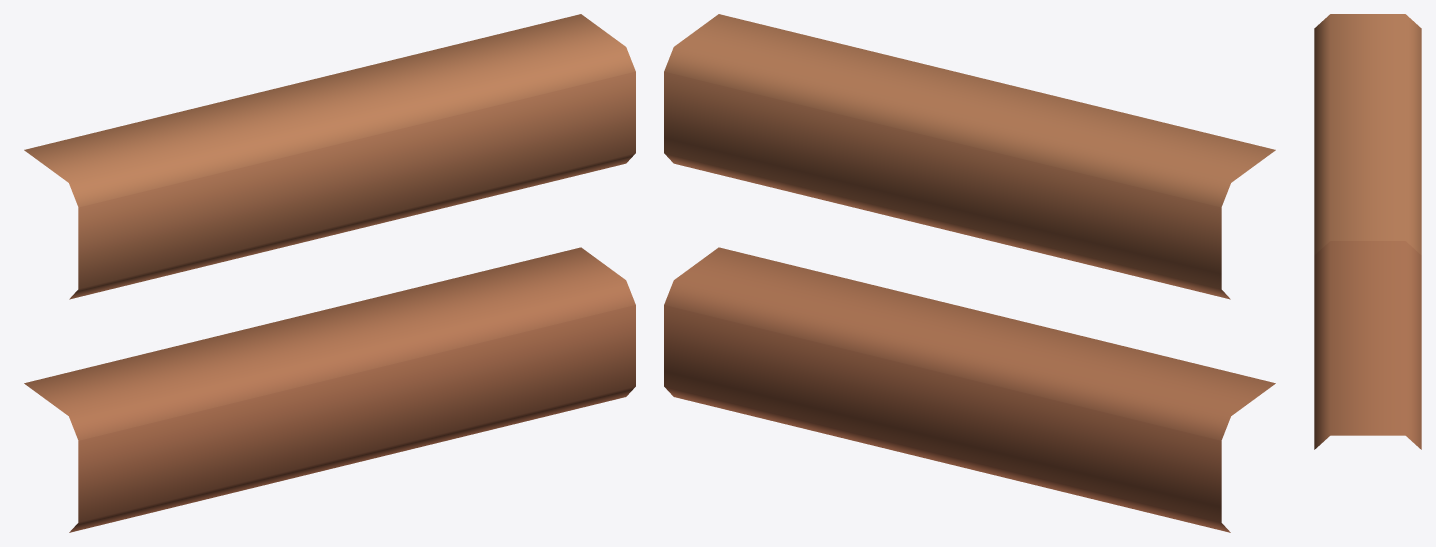
Rendered from Fence Rails.glb.
3 renders of one model, left to right at view 1: azimuth 30°, elevation 25°; view 2: azimuth 150°, elevation 25°; view 3: azimuth 270°, elevation 25°, orthographic. The views are drawn at different scales.
Parts seen in each view (by area): view 1: fence_rails; view 2: fence_rails; view 3: fence_rails.
Boxes of the visible parts, x1=… form: fence_rails: x1=24, y1=14, x2=635, y2=532; fence_rails: x1=664, y1=14, x2=1275, y2=532; fence_rails: x1=1314, y1=14, x2=1421, y2=449.
Size of the model in its own units: 1 by 0.6 by 0.2.
Materials: 1 (1 with a texture image).
